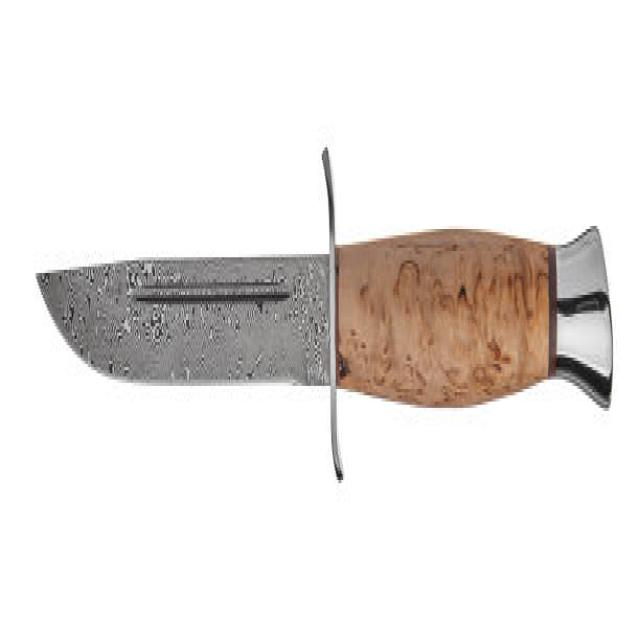knife: (23, 136, 621, 503)
